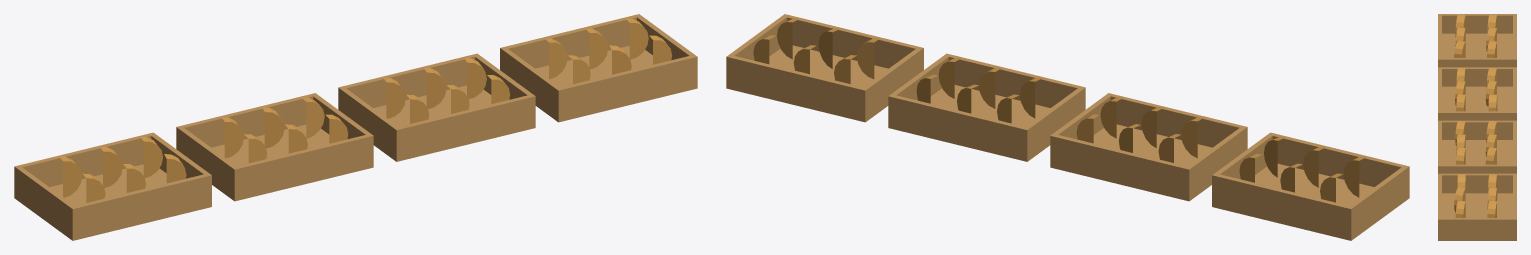
File: market_food_empanadas.glb
The picture shows the model from 3 angles, left to right: view 1: azimuth 30°, elevation 25°; view 2: azimuth 150°, elevation 25°; view 3: azimuth 270°, elevation 25°; orthographic projection. The views are drawn at different scales.
Parts seen in each view (by area): view 1: crate_crate_wood, goods_pastry (×24); view 2: crate_crate_wood, goods_pastry (×21); view 3: crate_crate_wood, goods_pastry (×24).
Boxes of the visible parts, x1=… form: crate_crate_wood: x1=14, y1=14, x2=697, y2=240; goods_pastry (×24): x1=59, y1=18, x2=672, y2=202; crate_crate_wood: x1=726, y1=14, x2=1409, y2=240; goods_pastry (×21): x1=753, y1=18, x2=1366, y2=202; crate_crate_wood: x1=1438, y1=14, x2=1516, y2=240; goods_pastry (×24): x1=1454, y1=14, x2=1497, y2=217.
Bounding box in the file's own units: 2.47 × 0.17 × 0.4.
